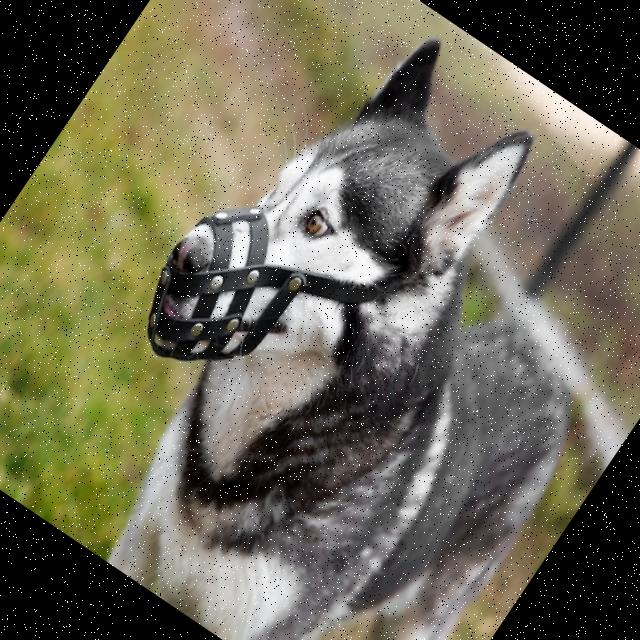Dog: (6, 0, 640, 640)
